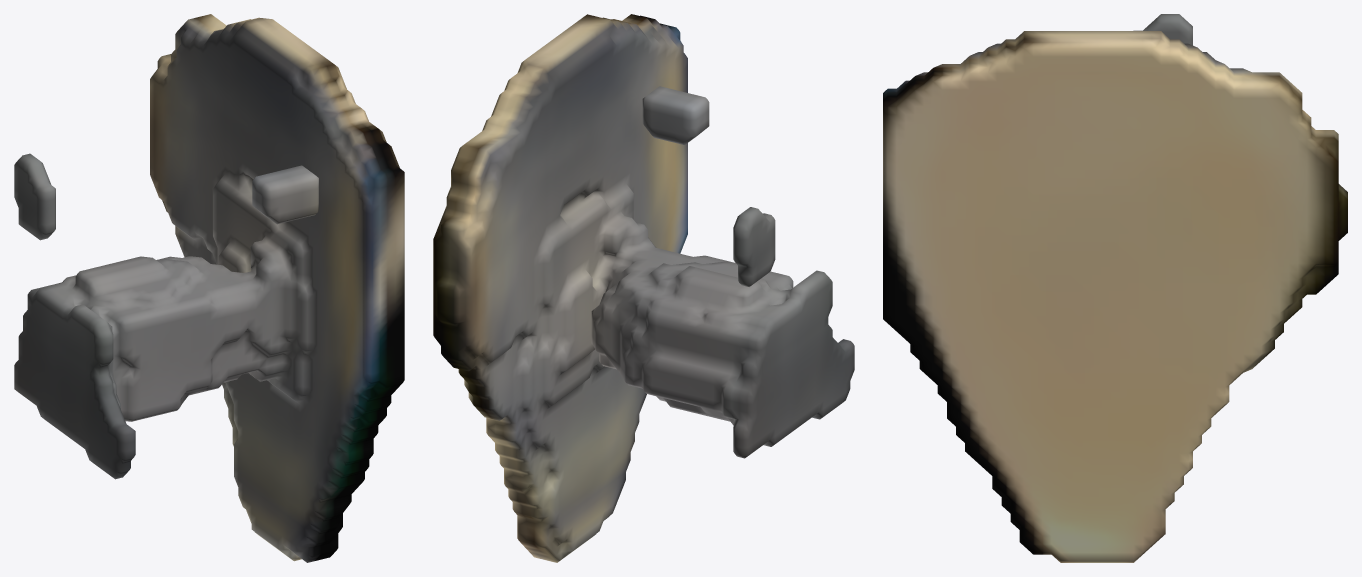
The model's file is A tan tear drop shaped wooden table with a grey cu.glb.
3 views of the same model, side by side, from view 1: azimuth 30°, elevation 25°; view 2: azimuth 150°, elevation 25°; view 3: azimuth 270°, elevation 25° (orthographic). The views are drawn at different scales.
Parts seen in each view (by area): view 1: A tan tear drop shaped wooden table with a grey cu; view 2: A tan tear drop shaped wooden table with a grey cu; view 3: A tan tear drop shaped wooden table with a grey cu.
Boxes of the visible parts, x1=… form: A tan tear drop shaped wooden table with a grey cu: x1=14, y1=14, x2=404, y2=562; A tan tear drop shaped wooden table with a grey cu: x1=433, y1=14, x2=854, y2=562; A tan tear drop shaped wooden table with a grey cu: x1=883, y1=14, x2=1347, y2=562.
Size of the model in its own units: 32 by 63 by 51.
